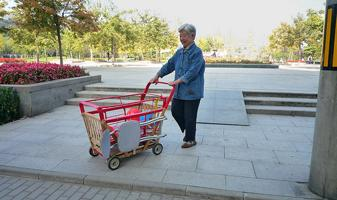person: (147, 22, 206, 150)
